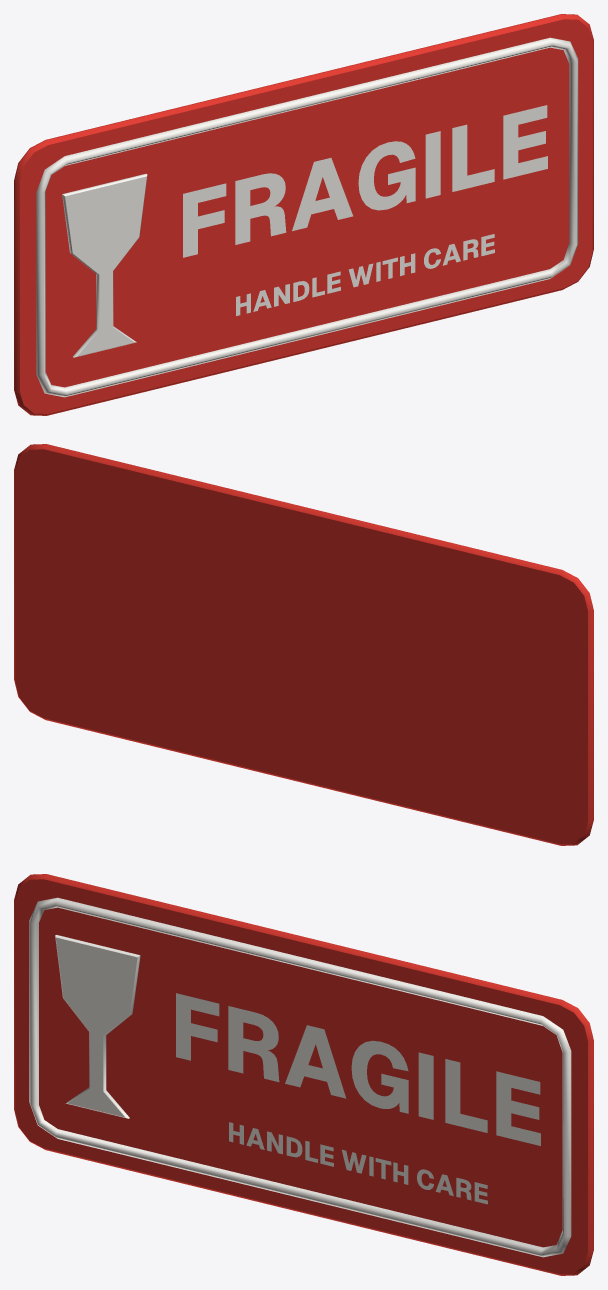
File: fragile-label.glb
3 renders of one model, top to bottom at view 1: azimuth 30°, elevation 25°; view 2: azimuth 150°, elevation 25°; view 3: azimuth 330°, elevation 25°, orthographic.
Visible parts, largest first — view 1: fragile-label; view 2: fragile-label; view 3: fragile-label.
Boxes of the visible parts, x1,y1,x2,y2 form: fragile-label: (14,14,593,415); fragile-label: (14,444,593,845); fragile-label: (14,874,593,1275).
Bounding box in the file's own units: 0.22 × 0.1 × 0.00559.
